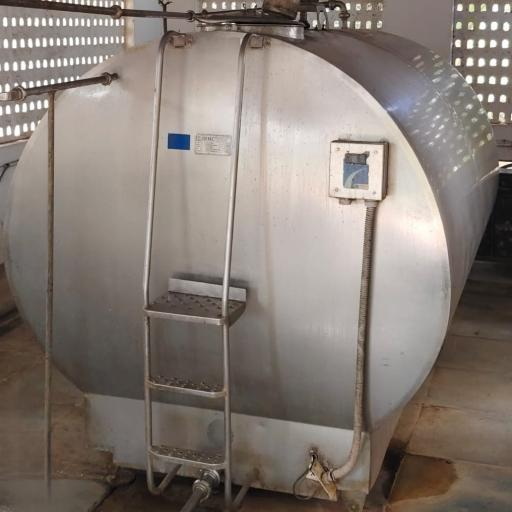silo: (0, 12, 505, 505)
